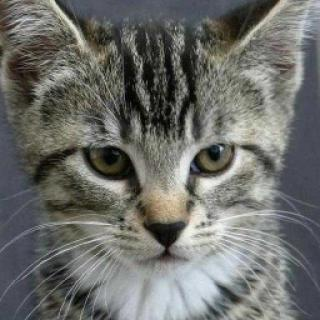cat: (16, 7, 306, 269)
nose: (138, 205, 194, 254)
